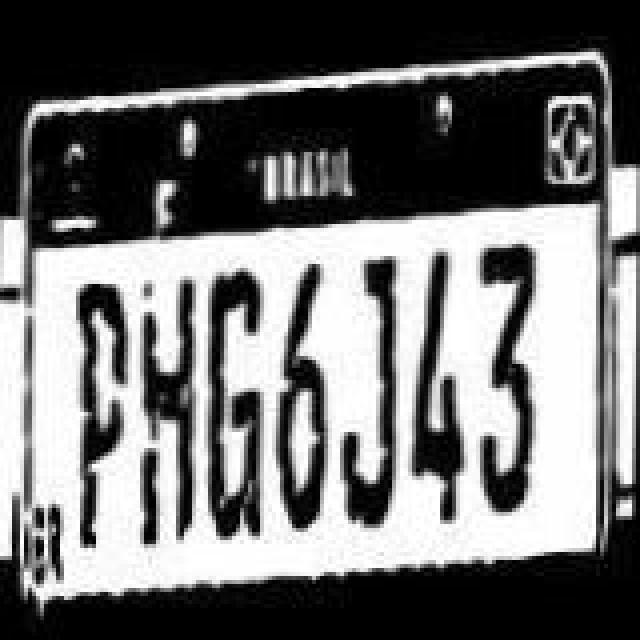3: (474, 236, 542, 524)
4: (412, 250, 468, 522)
6: (272, 250, 328, 534)
G: (204, 268, 268, 544)
H: (138, 274, 198, 554)
J: (340, 238, 404, 546)
P: (70, 272, 130, 552)
